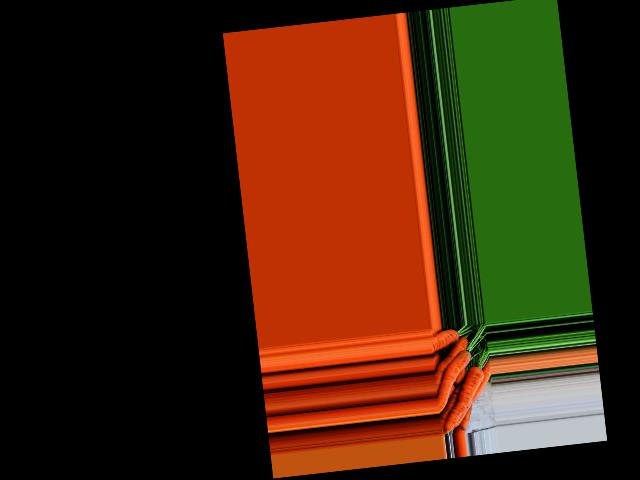carrot: (430, 324, 464, 351)
